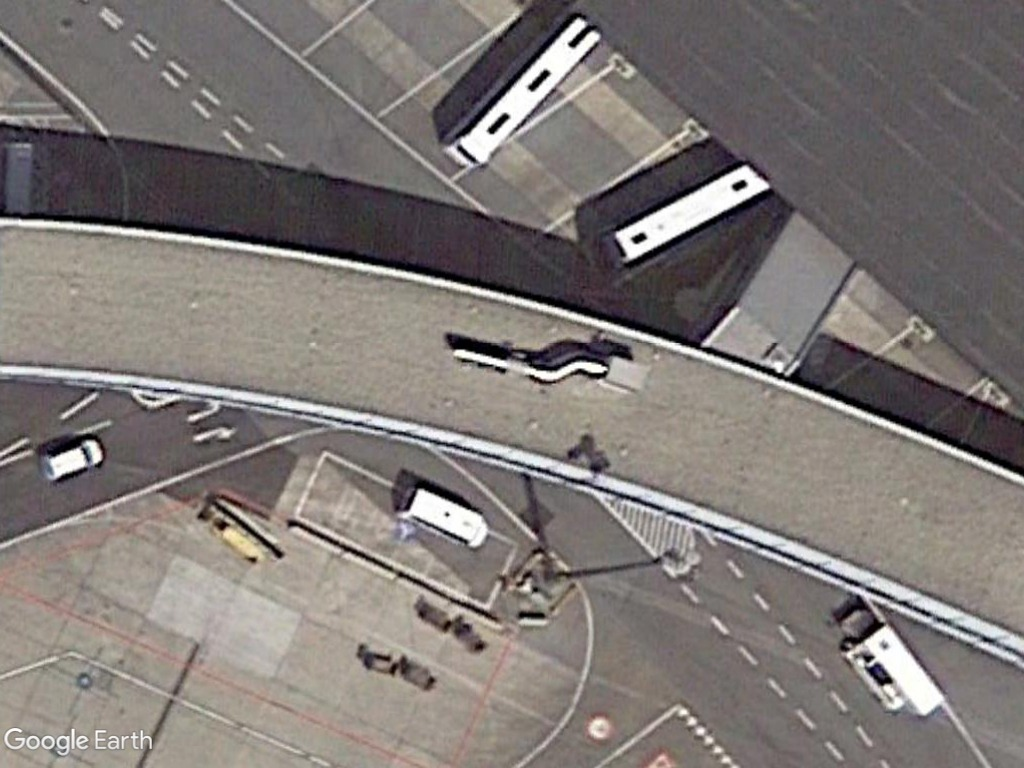bus: (438, 13, 602, 174), (603, 160, 769, 268)
van: (397, 482, 495, 551), (39, 435, 106, 485)
